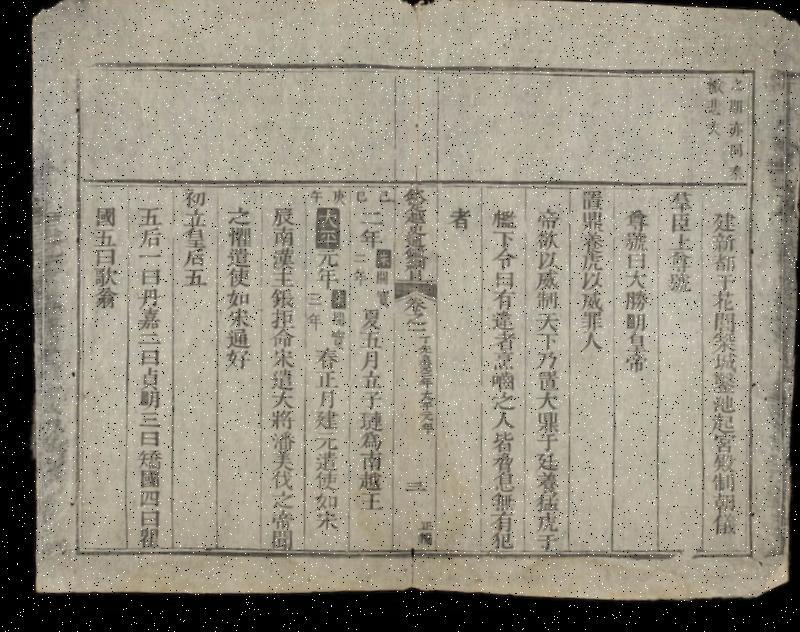c: (308, 210, 342, 254), (702, 516, 734, 543), (306, 347, 339, 373), (87, 240, 117, 267), (704, 376, 736, 401), (130, 203, 162, 228), (526, 413, 558, 438), (618, 212, 648, 238), (130, 308, 160, 334), (661, 253, 692, 278), (705, 214, 736, 239), (704, 337, 736, 361), (175, 186, 207, 210), (662, 194, 694, 218), (442, 208, 470, 235), (397, 188, 427, 213), (176, 208, 206, 233), (524, 514, 555, 538), (262, 288, 293, 312), (217, 349, 248, 373), (220, 226, 251, 250), (573, 192, 604, 216), (305, 410, 336, 434), (129, 448, 160, 472), (524, 495, 556, 518), (704, 257, 736, 280), (530, 210, 558, 236), (133, 226, 162, 251), (396, 250, 426, 274), (306, 450, 336, 474), (350, 492, 380, 516), (397, 228, 427, 252), (526, 474, 556, 498), (705, 316, 735, 340), (660, 276, 690, 300), (305, 510, 335, 534), (572, 315, 602, 339), (350, 410, 380, 434), (486, 210, 516, 234), (528, 314, 558, 338), (86, 286, 116, 310), (264, 248, 294, 272), (131, 286, 161, 310), (266, 206, 296, 230), (482, 494, 513, 517), (702, 418, 734, 440), (618, 235, 647, 259), (309, 268, 338, 292), (486, 250, 515, 274), (352, 229, 382, 252), (220, 205, 250, 228), (617, 294, 647, 317), (262, 410, 292, 433), (263, 349, 293, 372), (262, 431, 292, 454), (574, 236, 604, 259), (305, 470, 336, 492), (480, 514, 511, 536), (306, 370, 337, 392), (703, 438, 734, 460), (480, 532, 511, 554), (482, 374, 513, 396), (704, 296, 735, 318), (704, 238, 735, 260), (86, 266, 117, 288), (484, 433, 511, 458), (353, 309, 380, 334), (178, 227, 206, 251), (88, 227, 116, 251), (704, 358, 736, 379), (129, 526, 157, 550), (88, 204, 116, 228), (482, 394, 514, 415), (703, 456, 732, 479), (662, 216, 691, 239), (219, 328, 248, 351), (263, 370, 292, 393), (528, 373, 557, 396), (573, 294, 602, 317), (348, 472, 378, 494), (702, 496, 732, 518), (703, 398, 733, 420), (702, 476, 732, 498), (574, 216, 604, 238), (484, 292, 514, 314), (220, 268, 250, 290), (528, 274, 558, 296), (528, 294, 558, 316), (220, 248, 250, 270), (264, 310, 294, 332), (176, 268, 206, 290), (305, 432, 336, 453), (618, 336, 646, 359), (572, 336, 600, 359), (616, 357, 645, 379), (130, 428, 159, 450), (131, 346, 160, 368), (350, 432, 379, 454), (350, 452, 379, 474), (528, 234, 557, 256), (219, 289, 248, 311), (261, 510, 290, 532), (483, 354, 513, 375), (526, 455, 556, 476), (526, 394, 556, 415), (484, 314, 514, 335), (352, 332, 382, 353), (263, 330, 293, 351), (132, 366, 158, 390), (311, 230, 338, 253), (308, 390, 336, 412), (352, 372, 380, 394), (130, 507, 158, 529), (130, 488, 158, 510), (262, 450, 290, 472), (262, 470, 290, 492), (618, 274, 646, 296), (486, 334, 514, 356), (528, 353, 556, 375), (261, 530, 289, 552), (219, 309, 248, 330), (306, 492, 336, 512), (130, 410, 160, 430), (526, 436, 556, 456), (705, 278, 735, 298), (262, 391, 292, 411), (264, 270, 294, 290), (354, 351, 380, 374), (484, 474, 511, 496), (483, 455, 510, 477), (266, 228, 293, 250), (530, 254, 557, 276), (133, 266, 160, 288), (352, 391, 380, 412), (178, 249, 206, 270), (574, 275, 602, 296), (574, 256, 602, 277), (528, 336, 557, 356), (525, 536, 554, 556), (397, 297, 426, 317), (309, 252, 338, 272), (618, 316, 644, 338), (398, 211, 428, 230), (354, 211, 384, 230), (131, 469, 158, 490), (484, 414, 512, 434), (486, 232, 514, 252), (262, 492, 290, 512), (663, 237, 692, 256), (132, 389, 158, 410), (487, 274, 514, 294), (394, 479, 422, 498), (618, 257, 646, 276), (369, 250, 390, 274), (397, 315, 428, 331), (700, 102, 722, 124), (130, 332, 160, 348), (132, 250, 161, 266), (700, 124, 722, 145), (722, 126, 745, 146), (324, 330, 344, 353), (324, 290, 344, 313), (723, 168, 744, 189), (702, 82, 724, 102), (722, 102, 744, 122), (300, 312, 320, 334), (326, 189, 346, 210), (723, 146, 744, 166), (346, 269, 366, 290), (369, 290, 388, 311), (304, 190, 324, 209), (301, 291, 320, 311), (324, 312, 344, 331), (350, 189, 369, 208), (372, 190, 391, 209), (410, 362, 429, 380), (369, 272, 388, 290), (726, 82, 744, 100), (410, 378, 430, 394), (408, 533, 428, 549), (400, 272, 424, 284), (409, 520, 428, 535), (410, 392, 430, 406), (348, 253, 365, 269), (412, 412, 430, 426), (412, 424, 430, 438), (411, 346, 428, 359), (413, 338, 428, 349), (401, 330, 424, 337), (412, 404, 428, 413)
